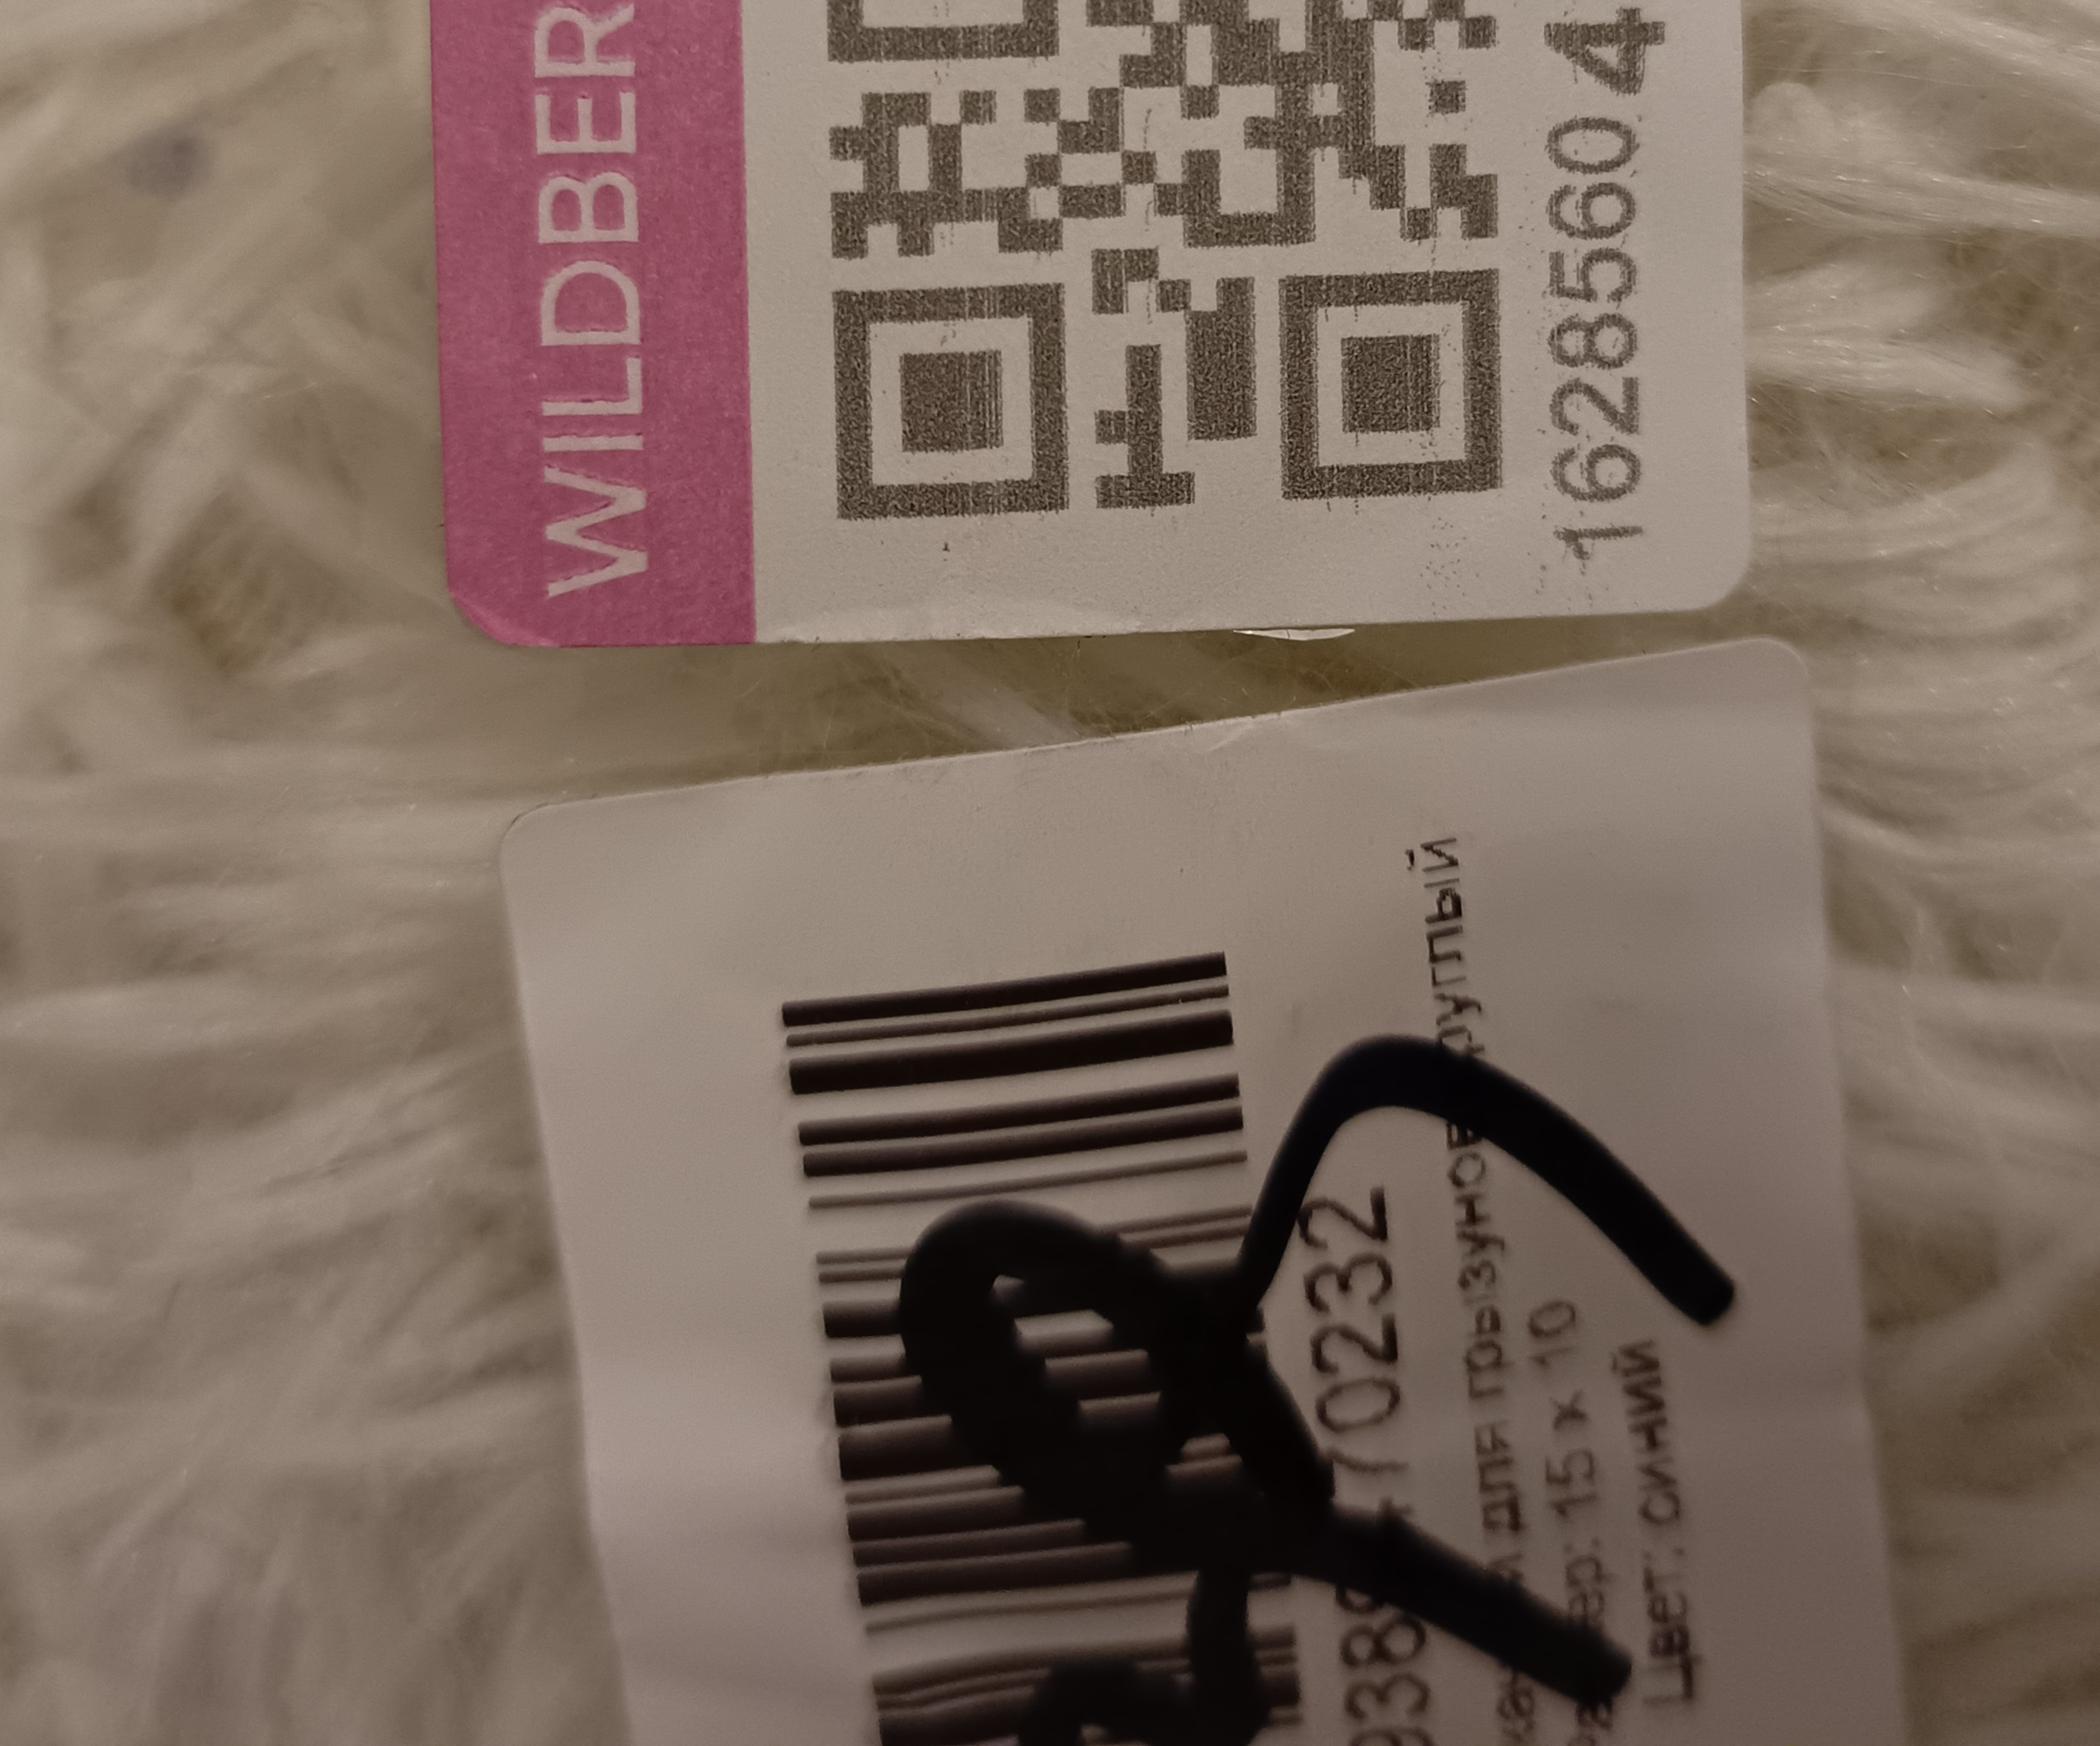1d: (778, 949, 1308, 1741)
